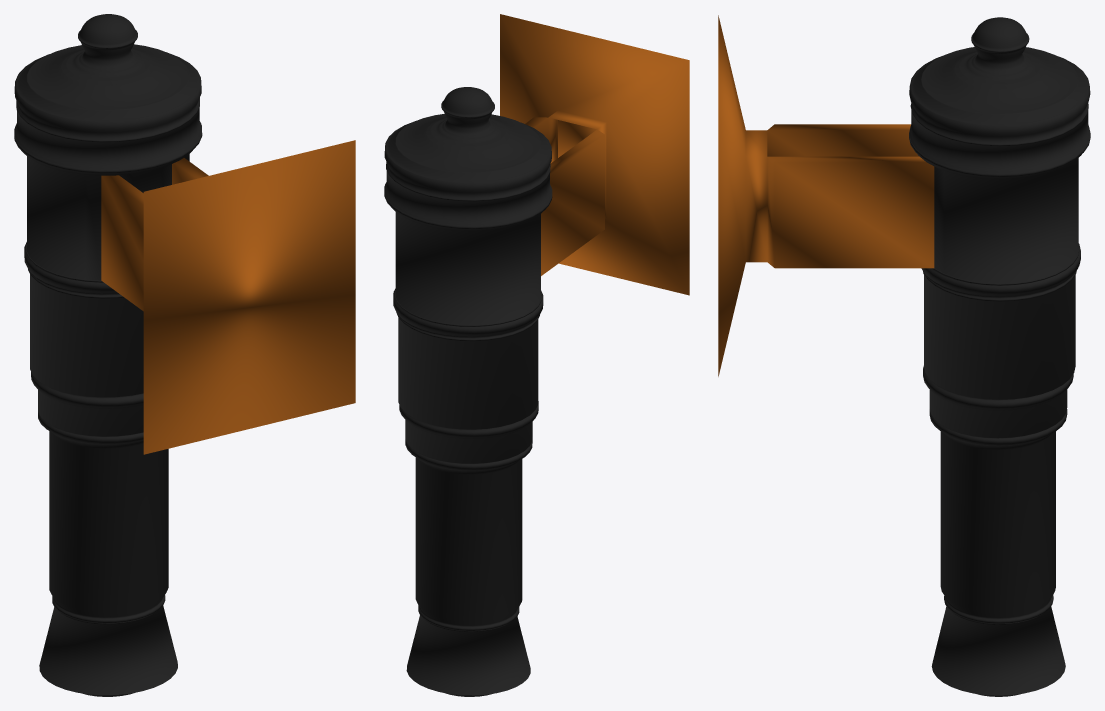
The model's file is cannon2.fbx.
3 views of the same model, side by side, from view 1: azimuth 30°, elevation 25°; view 2: azimuth 150°, elevation 25°; view 3: azimuth 270°, elevation 25° (orthographic). The views are drawn at different scales.
Visible parts, largest first — view 1: Cannon; view 2: Cannon; view 3: Cannon.
Part boxes in pixels (x1,y1,x2,y2): Cannon: (14,14,355,696); Cannon: (384,14,689,696); Cannon: (718,15,1090,696).
Size of the model in its own units: 1.38 by 4.12 by 2.1.
